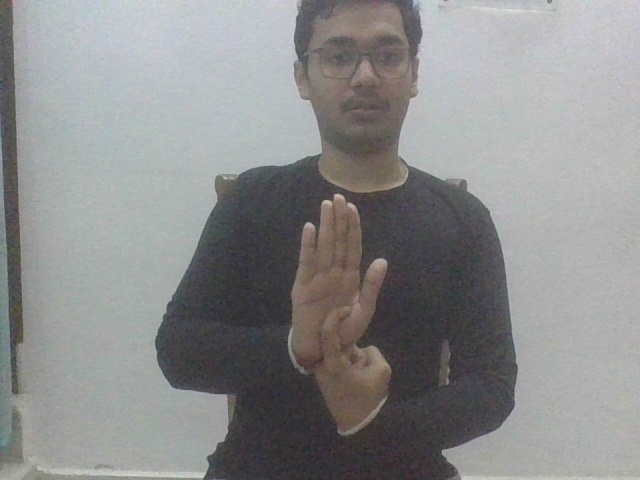R: (286, 192, 392, 437)
